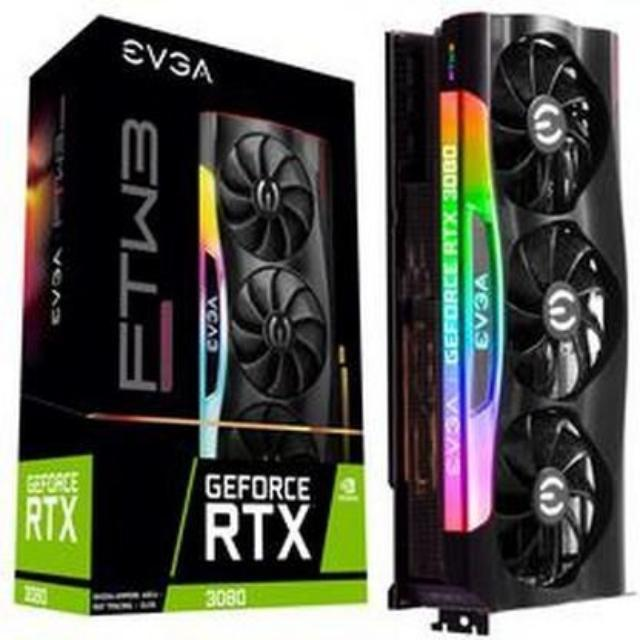GPU: (372, 8, 634, 638)
